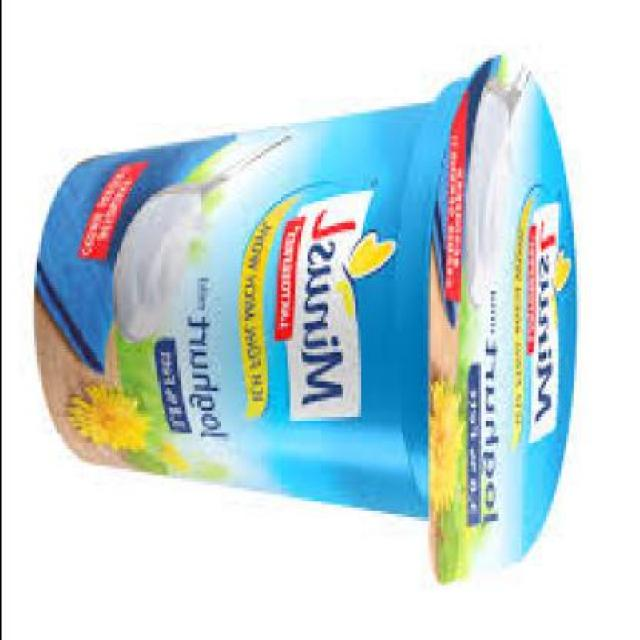PLASTIC: (38, 58, 579, 591)
